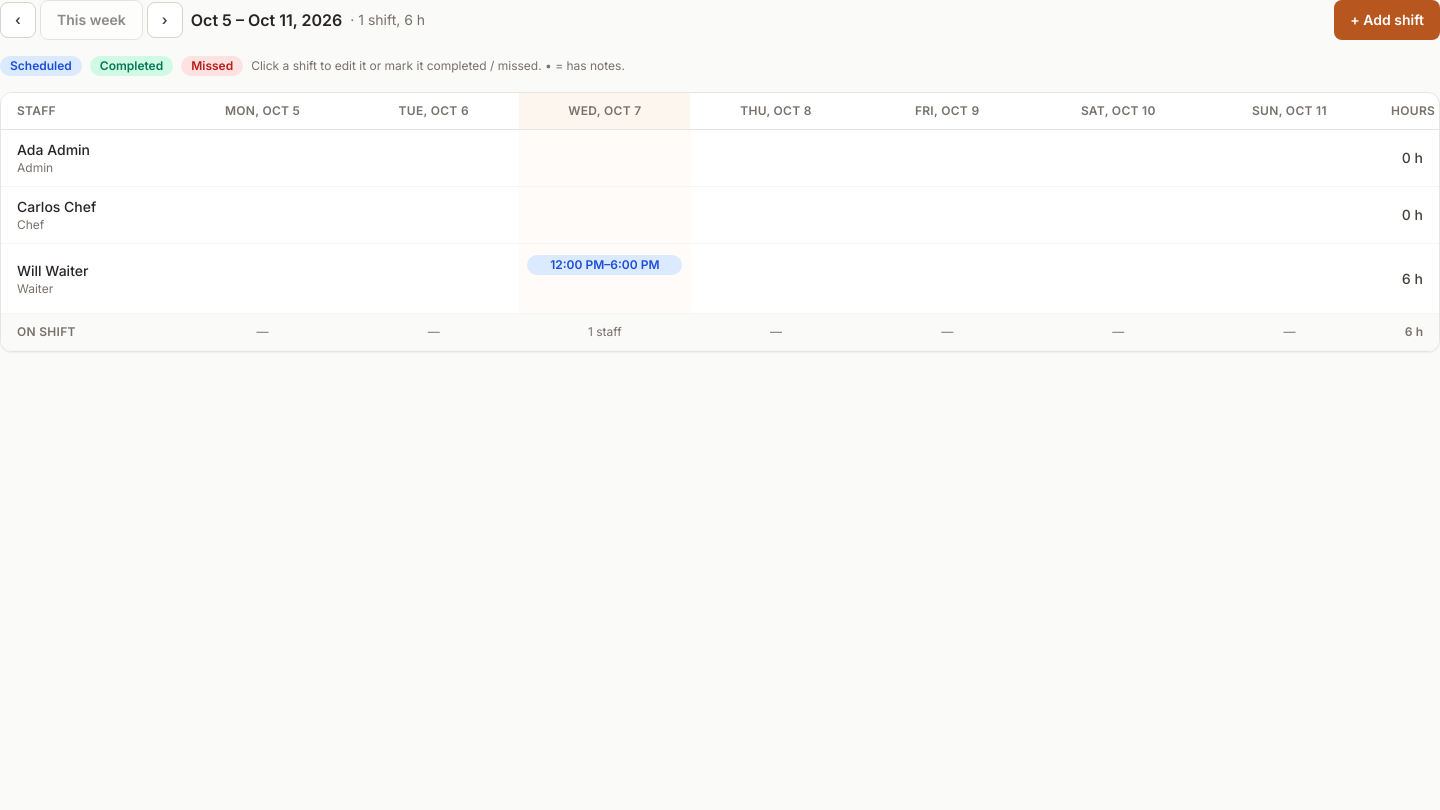
Scenario: ShiftPlanner › opens ShiftForm in edit mode when an existing shift is clicked
Click the button with aria-label "edit will waiter's shift". click: [605, 264]
box: 527,254 -> 682,275
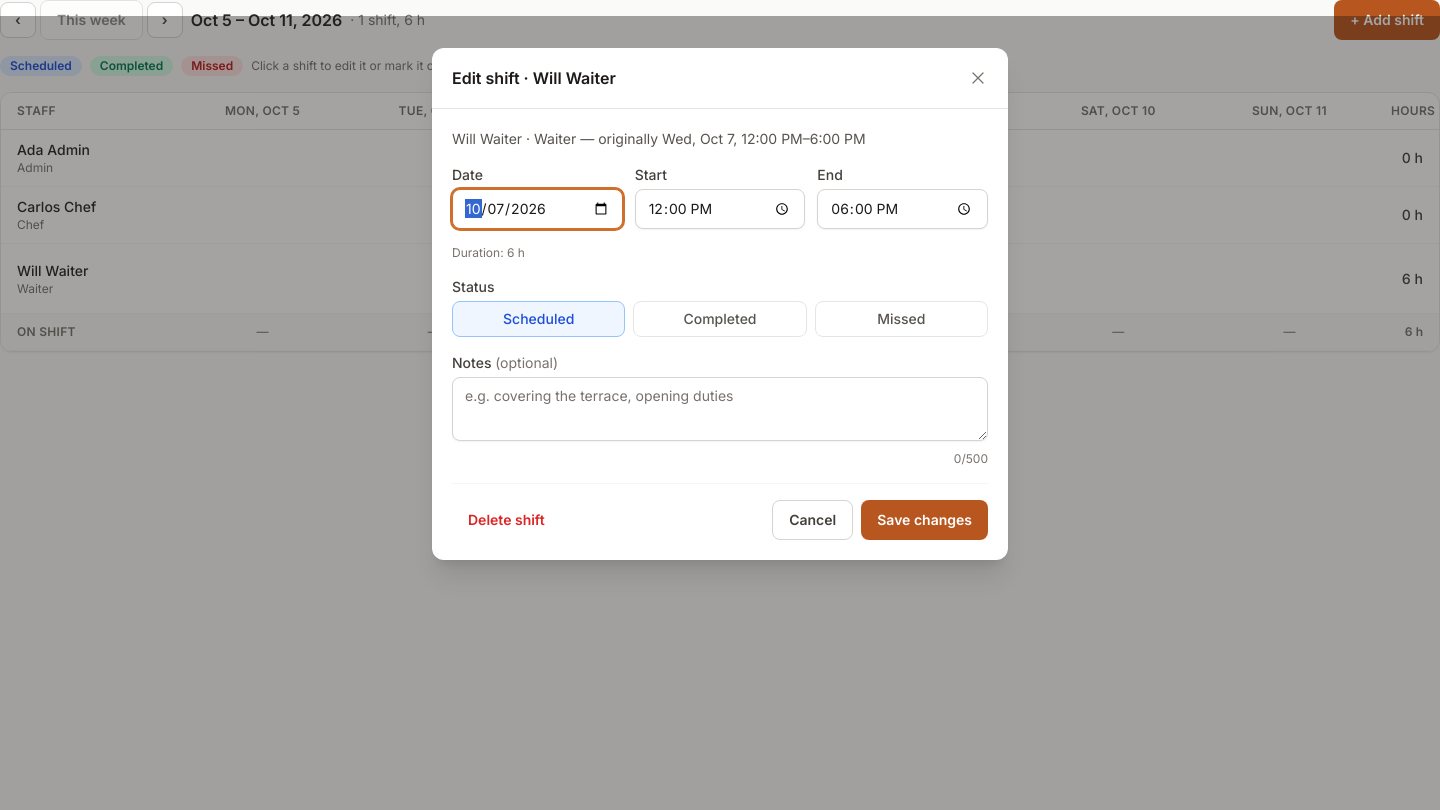
Result: the dialog "Edit shift · Will Waiter" is shown
